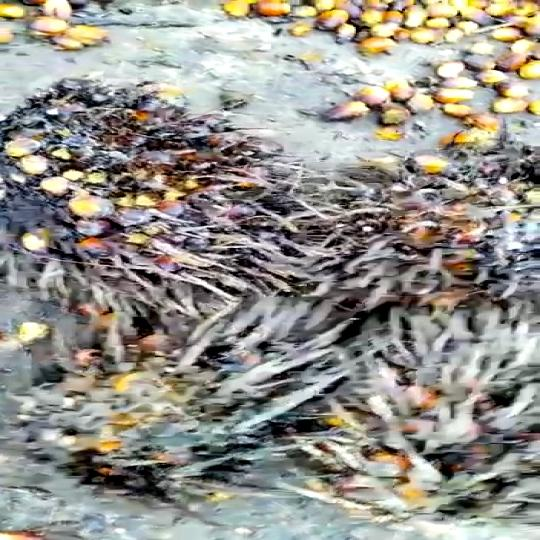terlalu masak: (0, 84, 303, 316), (307, 157, 539, 308)
